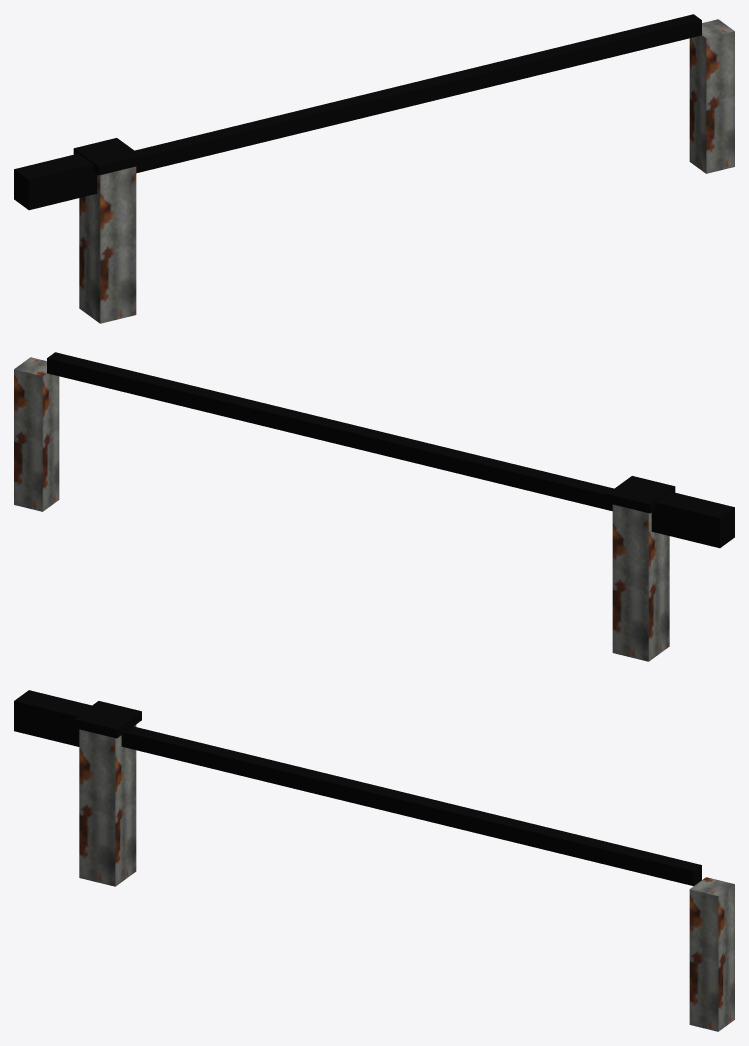
The model's file is SM_barrier_road.fbx.
The picture shows the model from 3 angles, top to bottom: view 1: azimuth 30°, elevation 25°; view 2: azimuth 150°, elevation 25°; view 3: azimuth 330°, elevation 25°; orthographic projection.
Parts seen in each view (by area): view 1: barrier_road_arm, barrier_road; view 2: barrier_road_arm, barrier_road; view 3: barrier_road, barrier_road_arm.
Part boxes in pixels (x1,y1,x2,y2): barrier_road_arm: [14, 14, 701, 210]; barrier_road: [73, 19, 734, 323]; barrier_road_arm: [47, 352, 734, 548]; barrier_road: [14, 357, 675, 661]; barrier_road: [73, 701, 734, 1031]; barrier_road_arm: [14, 690, 701, 886].
Bounding box in the file's own units: 4.9 × 1.06 × 0.3.
